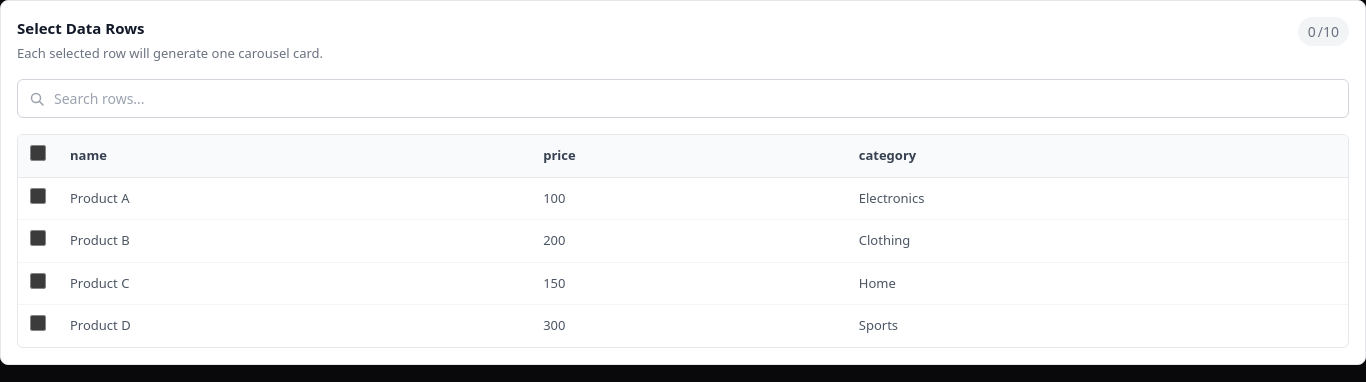
DataRowSelector › shows empty state when no matching rows
This screenshot has width=1366, height=382.
Step 1. Type "nonexistent" into the field with placeholder "Search rows..." → (683, 98), box 17,79 -> 1349,118
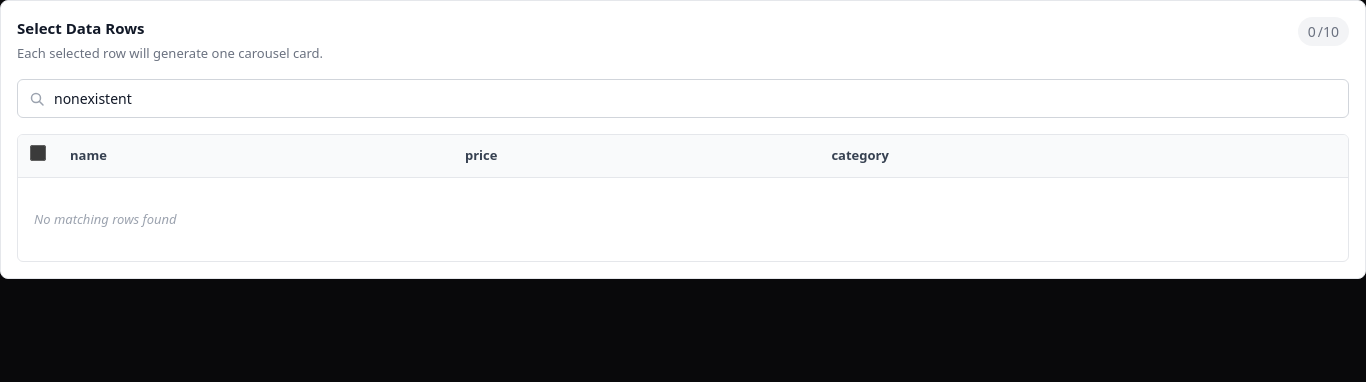
Check: the text "No matching rows found" is shown, box 18,177 -> 1348,261
